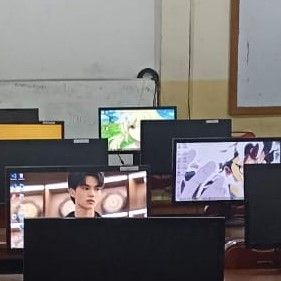monitor: (2, 165, 152, 254), (24, 217, 226, 279), (171, 137, 280, 207), (139, 118, 232, 174), (98, 106, 177, 152), (243, 163, 281, 248)
